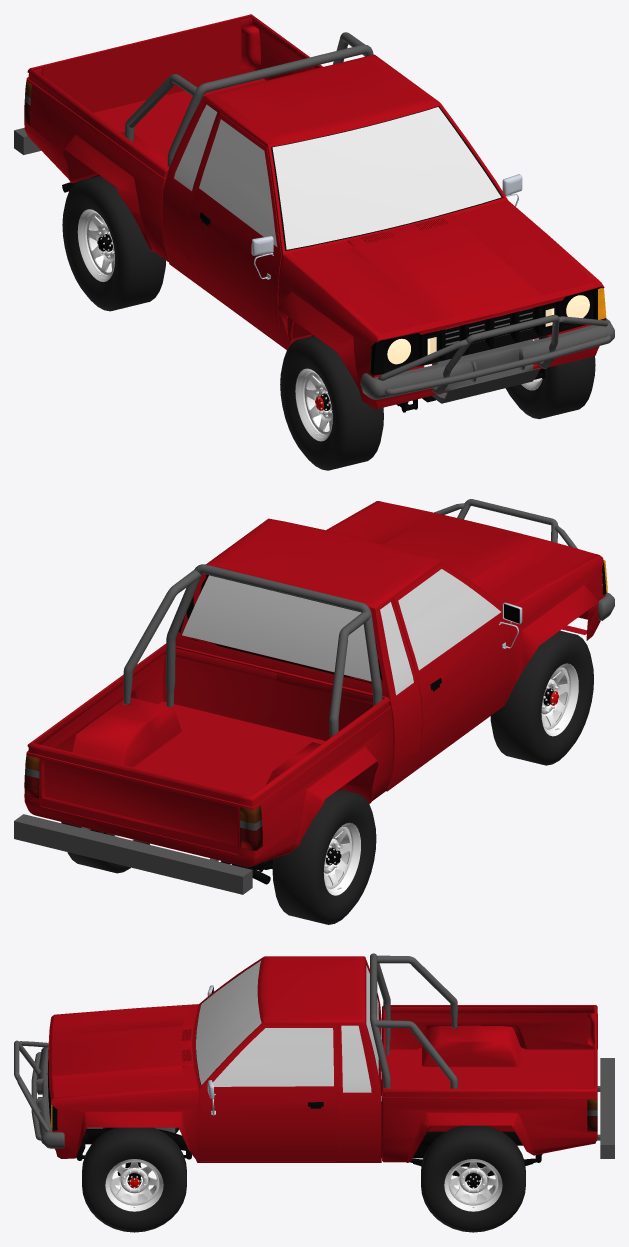
Rendered from trophy-truck.glb.
3 renders of one model, top to bottom at view 1: azimuth 30°, elevation 25°; view 2: azimuth 150°, elevation 25°; view 3: azimuth 270°, elevation 25°, orthographic. The views are drawn at different scales.
Visible parts, largest first — view 1: truck_body_Plane.031, truck_hood_Plane.015, truck_bed_Plane.007, truck_door_R_Cube.036, truck_tailgate_Plane.008, truck_wheel_FR_steelwheel_03a_17x9.006, truck_wheel_RR_steelwheel_03a_17x9.005, truck_bumper_F_Plane.011, truck_rollbar_Cylinder, truck_wheel_FL_steelwheel_03a_17x9; view 2: truck_bed_Plane.007, truck_body_Plane.031, truck_door_R_Cube.036, truck_tailgate_Plane.008, truck_hood_Plane.015, truck_wheel_RR_steelwheel_03a_17x9.005, truck_wheel_FR_steelwheel_03a_17x9.006, truck_rollbar_Cylinder, truck_bumper_R_Cube, truck_bumper_F_Plane.011, truck_wheel_RL_steelwheel_03a_17x9.004; view 3: truck_bed_Plane.007, truck_body_Plane.031, truck_door_L_Plane.027, truck_hood_Plane.015, truck_wheel_RL_steelwheel_03a_17x9.004, truck_wheel_FL_steelwheel_03a_17x9, truck_rollbar_Cylinder, truck_bumper_F_Plane.011, truck_bumper_R_Cube, truck_frame_pickup_frame_short.
Boxes of the visible parts, <box> form: truck_body_Plane.031: <box>162,54,606,409</box>; truck_hood_Plane.015: <box>296,207,597,339</box>; truck_bed_Plane.007: <box>24,14,322,261</box>; truck_door_R_Cube.036: <box>189,113,284,346</box>; truck_tailgate_Plane.008: <box>41,17,240,112</box>; truck_wheel_FR_steelwheel_03a_17x9.006: <box>280,336,383,470</box>; truck_wheel_RR_steelwheel_03a_17x9.005: <box>62,175,165,311</box>; truck_bumper_F_Plane.011: <box>360,315,614,403</box>; truck_rollbar_Cylinder: <box>124,32,373,166</box>; truck_wheel_FL_steelwheel_03a_17x9: <box>505,336,595,419</box>; truck_bed_Plane.007: <box>24,643,393,867</box>; truck_body_Plane.031: <box>175,501,607,791</box>; truck_door_R_Cube.036: <box>393,564,522,767</box>; truck_tailgate_Plane.008: <box>40,745,240,854</box>; truck_hood_Plane.015: <box>330,501,594,603</box>; truck_wheel_RR_steelwheel_03a_17x9.005: <box>272,789,376,924</box>; truck_wheel_FR_steelwheel_03a_17x9.006: <box>490,630,593,765</box>; truck_rollbar_Cylinder: <box>123,564,382,737</box>; truck_bumper_R_Cube: <box>14,814,252,894</box>; truck_bumper_F_Plane.011: <box>434,499,614,620</box>; truck_wheel_RL_steelwheel_03a_17x9.004: <box>61,822,149,873</box>; truck_bed_Plane.007: <box>382,1005,597,1162</box>; truck_body_Plane.031: <box>47,956,381,1162</box>; truck_door_L_Plane.027: <box>201,1024,338,1160</box>; truck_hood_Plane.015: <box>48,1006,187,1099</box>; truck_wheel_RL_steelwheel_03a_17x9.004: <box>421,1125,525,1232</box>; truck_wheel_FL_steelwheel_03a_17x9: <box>82,1127,186,1232</box>; truck_rollbar_Cylinder: <box>370,953,457,1088</box>; truck_bumper_F_Plane.011: <box>14,1040,102,1148</box>; truck_bumper_R_Cube: <box>597,1058,614,1158</box>; truck_frame_pickup_frame_short: <box>82,1079,522,1158</box>.
Bounding box in the file's own units: 1.88 × 1.74 × 4.68.
Materials: 31 (10 with a texture image).
